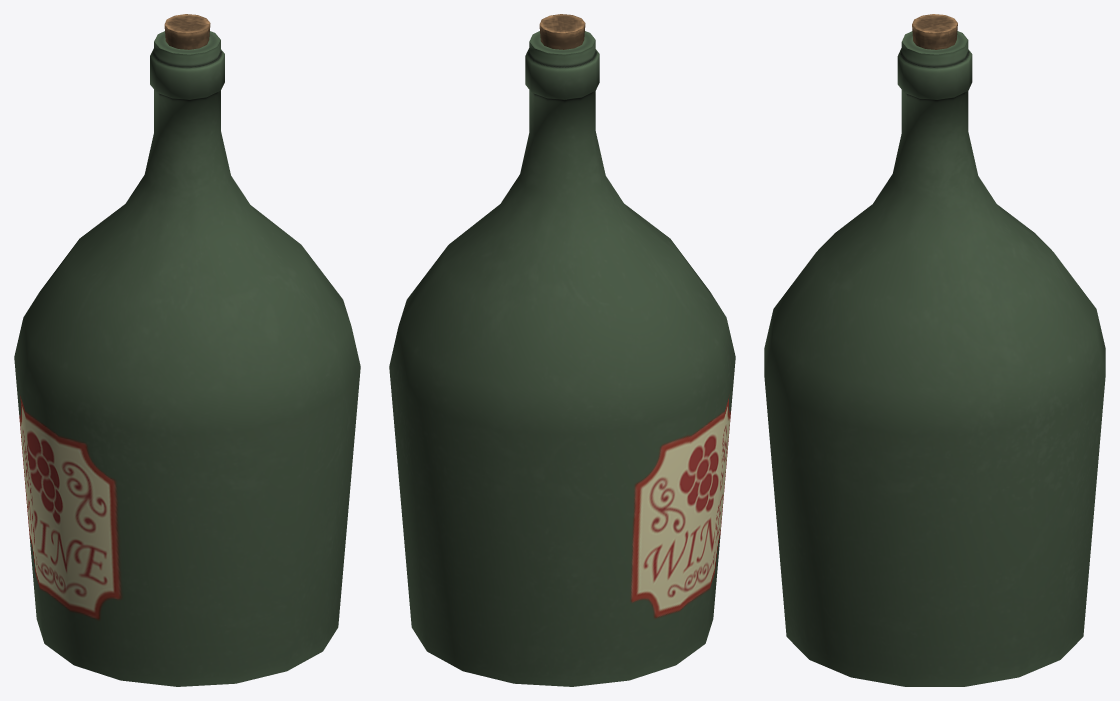
File: LOD0_bigBottle_wLabel_closed.fbx
3 renders of one model, left to right at view 1: azimuth 30°, elevation 25°; view 2: azimuth 150°, elevation 25°; view 3: azimuth 270°, elevation 25°, orthographic.
Parts seen in each view (by area): view 1: LOD0_bigBottle_wLabel_closed; view 2: LOD0_bigBottle_wLabel_closed; view 3: LOD0_bigBottle_wLabel_closed.
Boxes of the visible parts, x1,y1,x2,y2 form: LOD0_bigBottle_wLabel_closed: [14, 14, 360, 686]; LOD0_bigBottle_wLabel_closed: [389, 14, 735, 686]; LOD0_bigBottle_wLabel_closed: [764, 14, 1105, 686].
Size of the model in its own units: 0.2132 by 0.4141 by 0.2132.
